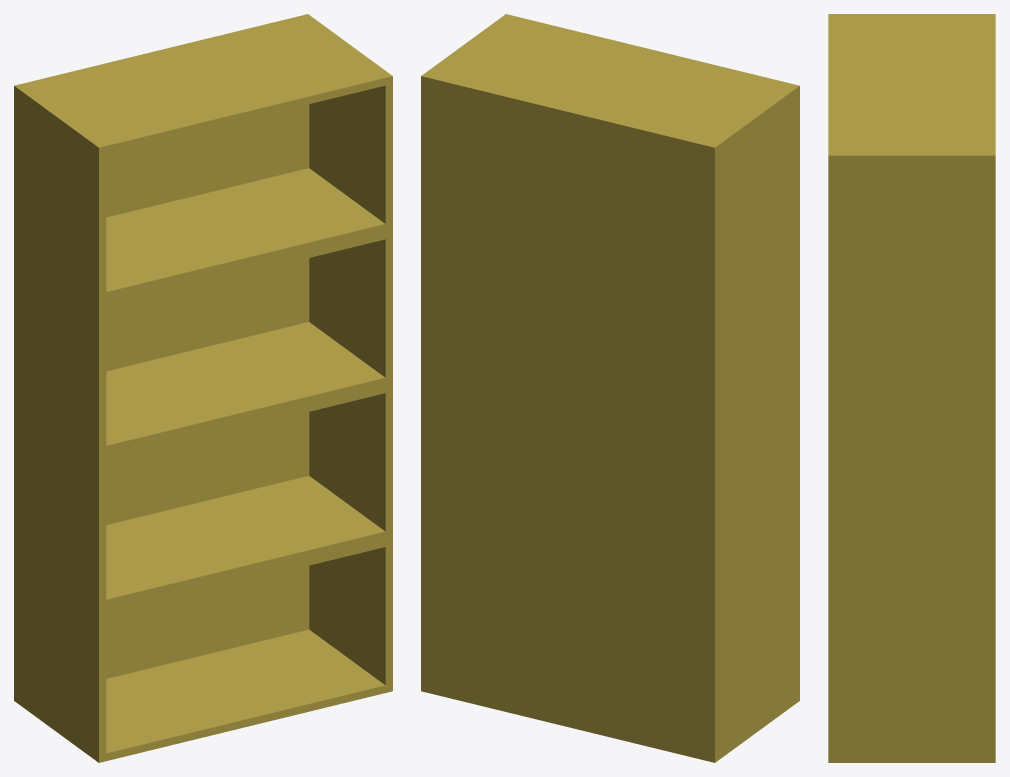
File: bookshelf_empty.glb
3 views of the same model, side by side, from view 1: azimuth 30°, elevation 25°; view 2: azimuth 150°, elevation 25°; view 3: azimuth 270°, elevation 25° (orthographic).
Parts seen in each view (by area): view 1: Cube.003; view 2: Cube.003; view 3: Cube.003.
Boxes of the visible parts, x1,y1,x2,y2 form: Cube.003: (14, 14, 392, 762); Cube.003: (421, 14, 799, 762); Cube.003: (828, 14, 995, 762).
Size of the model in its own units: 2 by 4 by 1.
